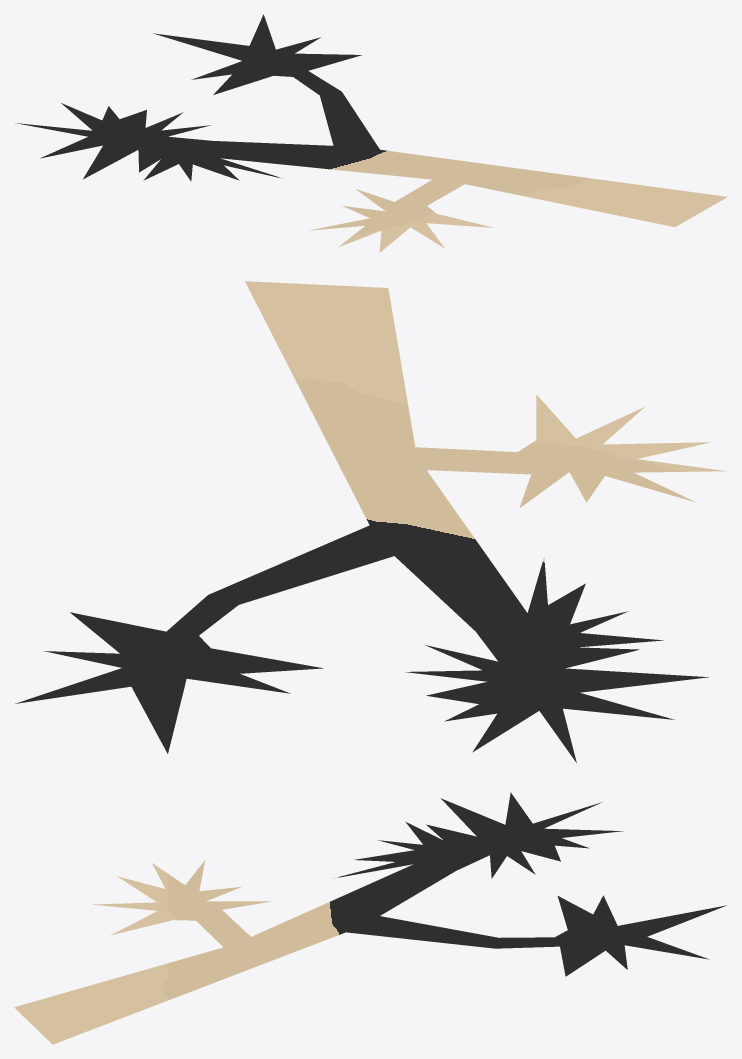
The model's file is west_tree01_sd.FBX.
The picture shows the model from 3 angles, top to bottom: view 1: azimuth 30°, elevation 25°; view 2: azimuth 150°, elevation 25°; view 3: azimuth 270°, elevation 25°; orthographic projection. The views are drawn at different scales.
Parts seen in each view (by area): view 1: west_tree01_sd; view 2: west_tree01_sd; view 3: west_tree01_sd.
Boxes of the visible parts, bbox=[...] form: west_tree01_sd: bbox=[15, 14, 727, 252]; west_tree01_sd: bbox=[15, 281, 726, 762]; west_tree01_sd: bbox=[14, 792, 726, 1044].
Size of the model in its own units: 5049 by 0.000527 by 6032.
